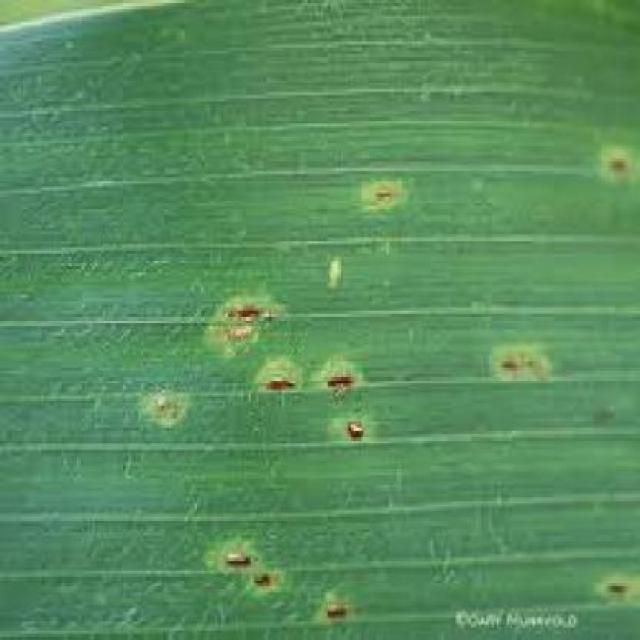Corn_Rust: (75, 98, 640, 591)
